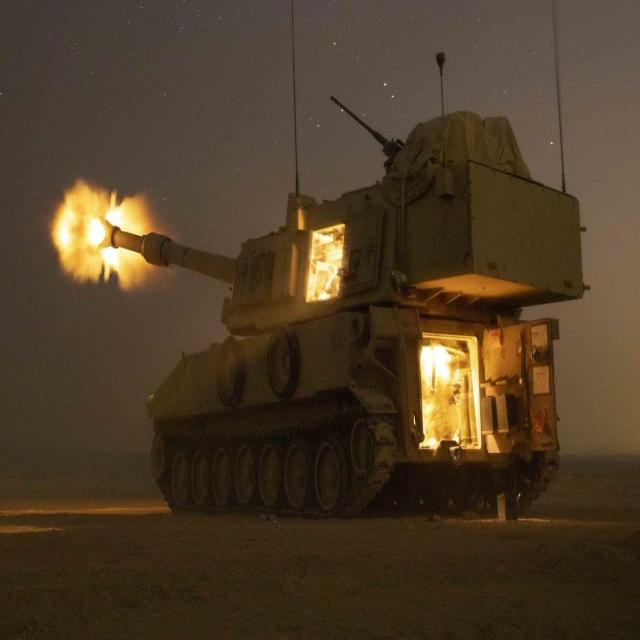Tanks: (90, 92, 584, 500)
